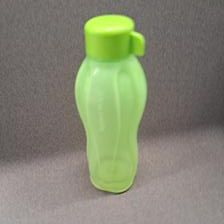bottle: (74, 13, 147, 192)
